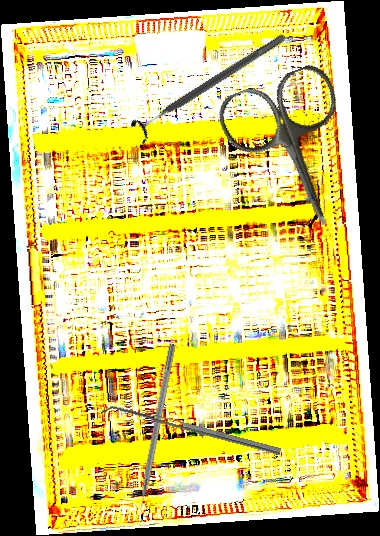Fixation Ring: (127, 24, 293, 146)
Hook Surgical: (133, 343, 177, 524)
Iris Scissors: (211, 59, 379, 247)
Spatula Surgical: (100, 401, 282, 462)
